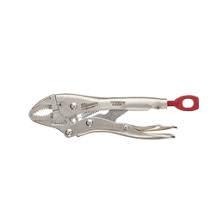pliers: (27, 91, 199, 139)
